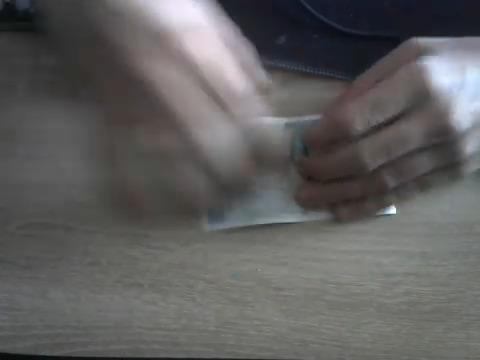20leva: (205, 180, 329, 231)
